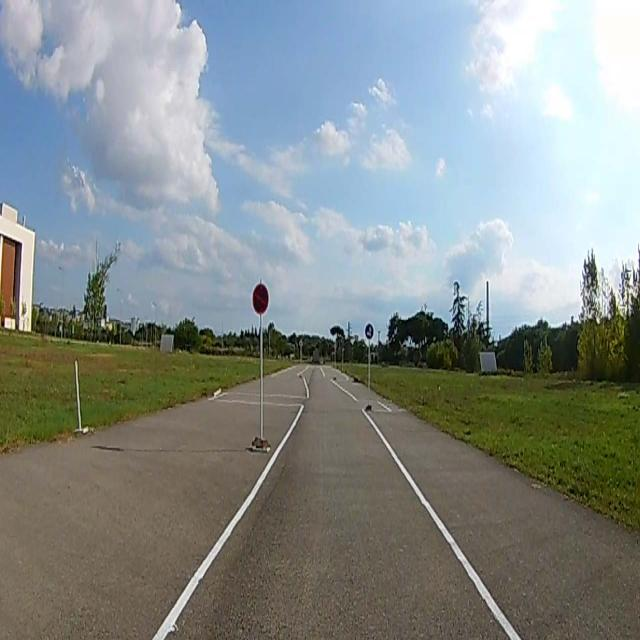ilerisol: (365, 324, 373, 339)
parkyasak: (252, 284, 269, 313)
